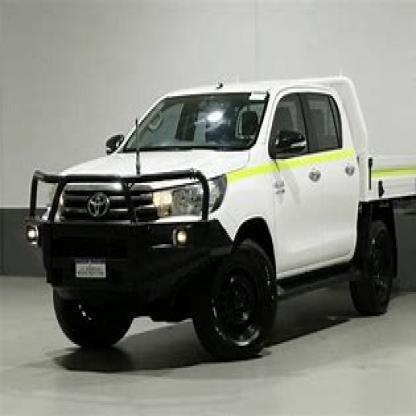light_vehicle: (16, 70, 415, 368)
